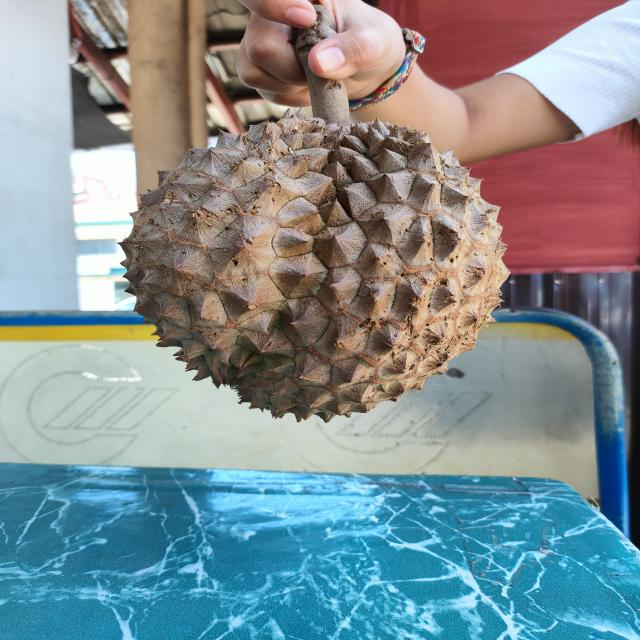mature: (120, 114, 513, 427)
